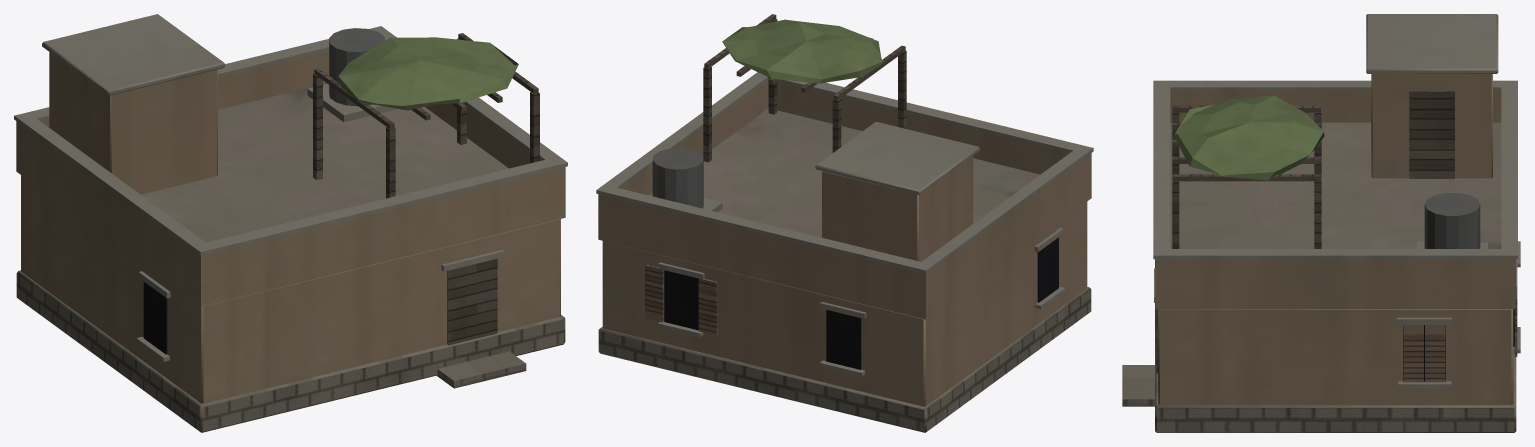
File: a12_house_1.glb
3 renders of one model, left to right at view 1: azimuth 30°, elevation 25°; view 2: azimuth 150°, elevation 25°; view 3: azimuth 270°, elevation 25°, orthographic. The views are drawn at different scales.
Visible parts, largest first — view 1: body; view 2: body; view 3: body.
Part boxes in pixels (bbox=[...]): body: bbox=[14, 14, 567, 432]; body: bbox=[596, 14, 1093, 432]; body: bbox=[1122, 14, 1520, 432].
Bounding box in the file's own units: 1 × 0.6985 × 0.9469.
1 material, 1 textured.
